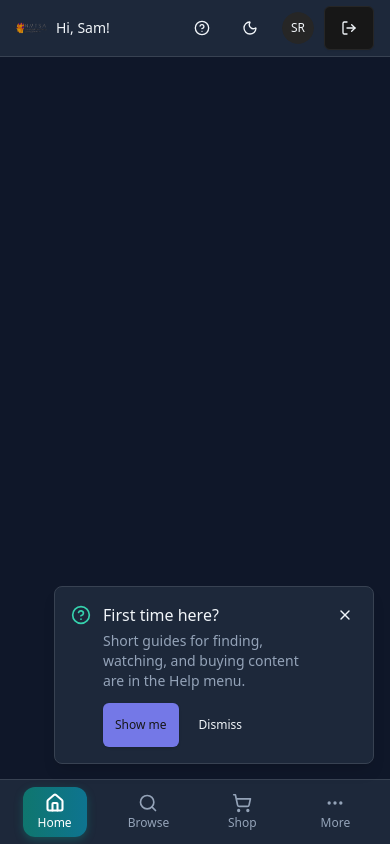
Scenario: ClientLayout guides › offers the recommend guide to a professional holding RECOMMEND_CONTENT
This screenshot has width=390, height=844.
Click the button named "help and guides" at (202, 28), box [180,6,224,50]
(page scrolled)
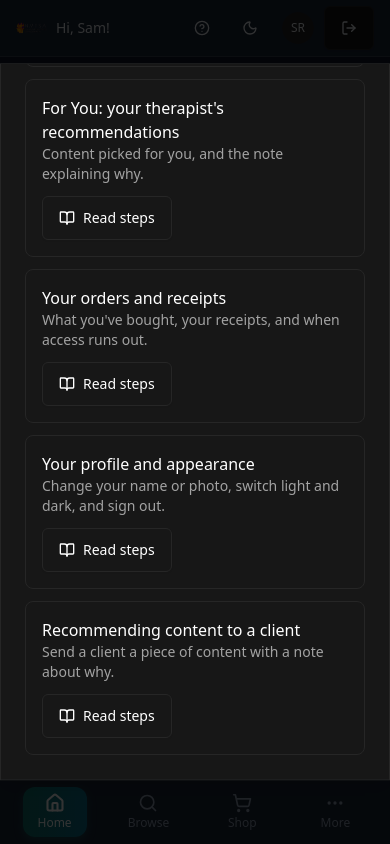
Expected: the heading "Recommending content to a client" is shown, [42,619,300,641]
